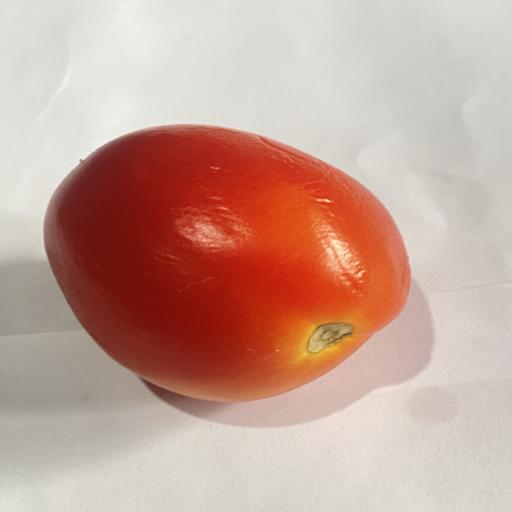spoiled: (44, 125, 410, 402)
